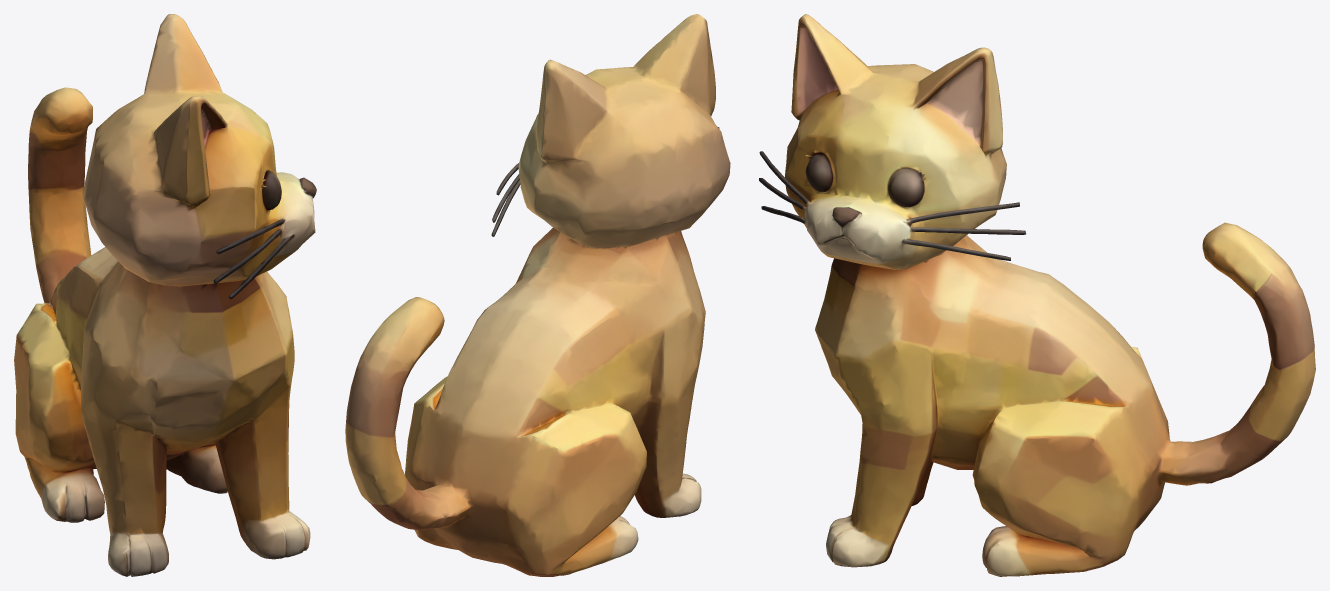
The model's file is cat.glb.
3 renders of one model, left to right at view 1: azimuth 30°, elevation 25°; view 2: azimuth 150°, elevation 25°; view 3: azimuth 270°, elevation 25°, orthographic. The views are drawn at different scales.
Parts seen in each view (by area): view 1: tripo_node_6d87c3c0-81c3-4e47-b84b-9dd18a98c73a; view 2: tripo_node_6d87c3c0-81c3-4e47-b84b-9dd18a98c73a; view 3: tripo_node_6d87c3c0-81c3-4e47-b84b-9dd18a98c73a.
Part boxes in pixels (left/top/right/bottom): tripo_node_6d87c3c0-81c3-4e47-b84b-9dd18a98c73a: left=14, top=14, right=316, bottom=576; tripo_node_6d87c3c0-81c3-4e47-b84b-9dd18a98c73a: left=345, top=14, right=730, bottom=576; tripo_node_6d87c3c0-81c3-4e47-b84b-9dd18a98c73a: left=759, top=14, right=1315, bottom=576.
Size of the model in its own units: 0.4596 by 0.9739 by 1.
Materials: 1 (1 with a texture image).
